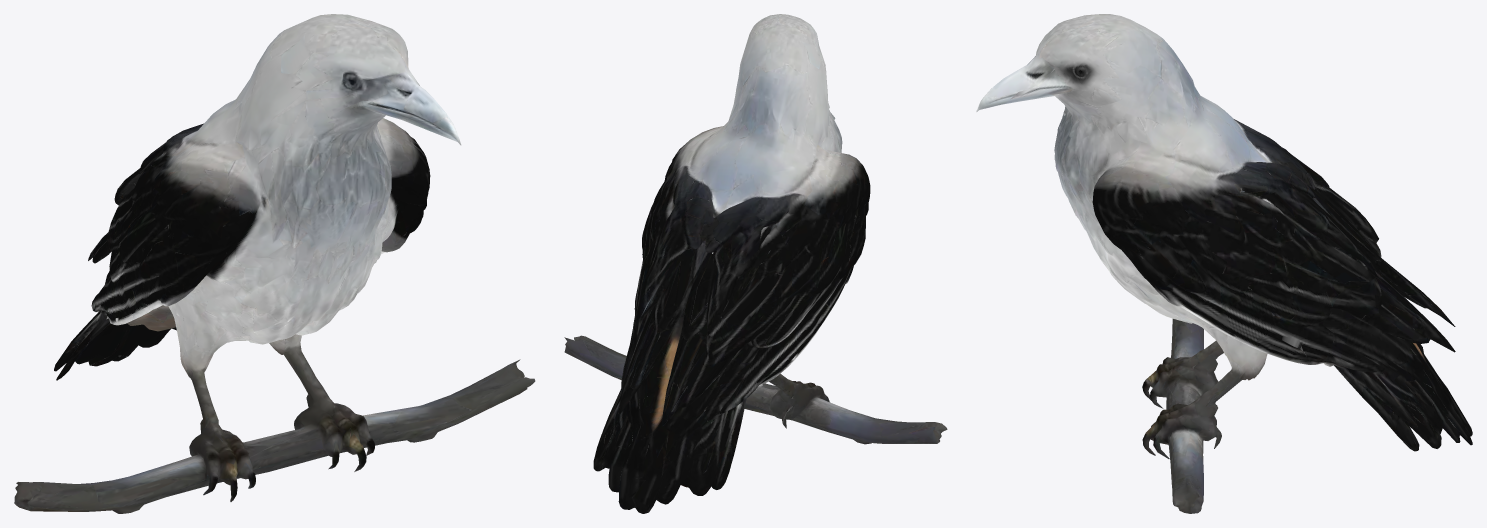
The model's file is animal-raaf-raven.glb.
3 views of the same model, side by side, from view 1: azimuth 30°, elevation 25°; view 2: azimuth 150°, elevation 25°; view 3: azimuth 270°, elevation 25° (orthographic). The views are drawn at different scales.
Size of the model in its own units: 1.91 by 1.78 by 1.89.
1 material, 1 textured.
